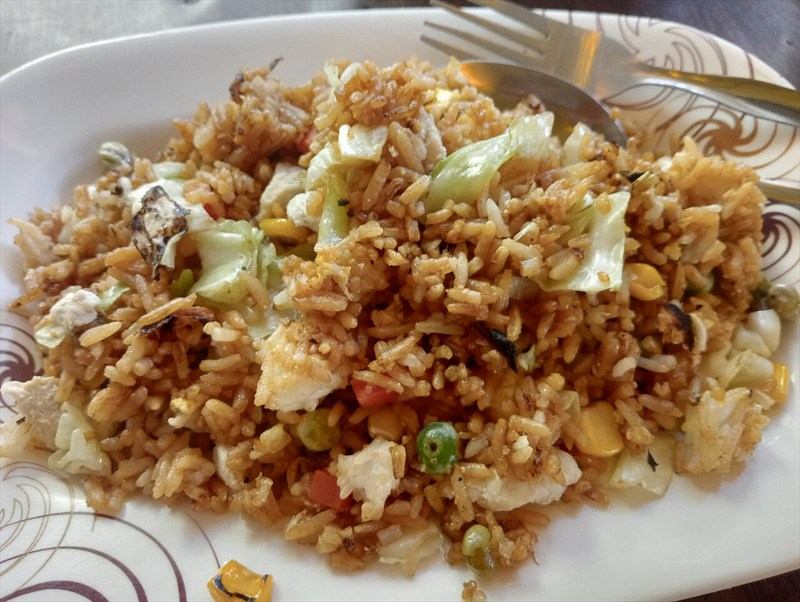Nasi Goreng: (97, 144, 708, 523)
